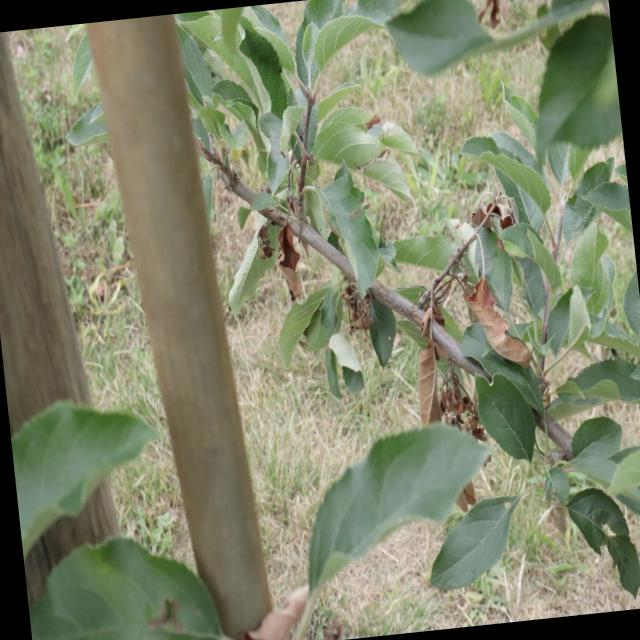-FireBlight-: (449, 248, 532, 368), (406, 297, 448, 428), (276, 221, 307, 307), (344, 279, 380, 343)
